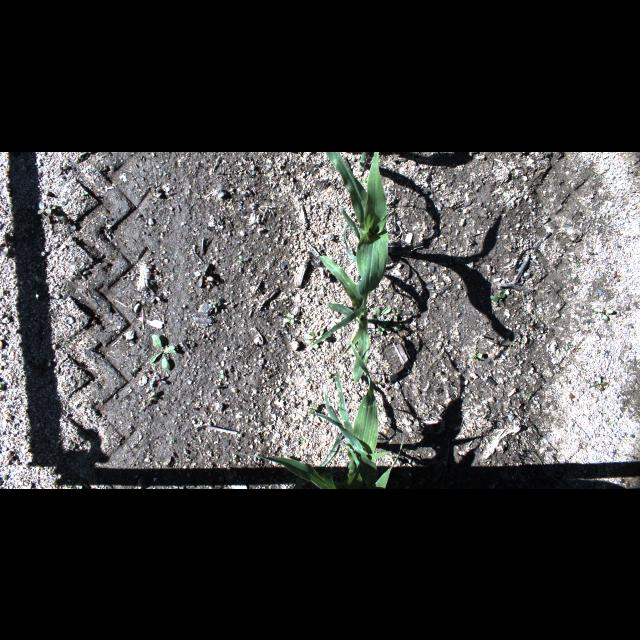crop: (231, 345, 403, 487), (308, 151, 389, 381)
weed: (146, 335, 178, 373), (184, 260, 220, 288), (32, 197, 58, 226), (140, 368, 173, 387), (391, 304, 412, 332), (68, 266, 100, 284), (482, 289, 508, 309), (468, 343, 492, 363), (594, 302, 616, 322), (368, 306, 390, 324), (54, 156, 74, 174), (588, 375, 610, 391), (572, 248, 586, 272), (1, 230, 12, 260), (61, 212, 77, 232), (144, 389, 160, 406), (3, 442, 13, 468), (283, 312, 297, 328), (357, 151, 368, 171), (234, 252, 248, 264), (611, 266, 623, 280), (218, 363, 226, 381), (376, 326, 384, 336)
